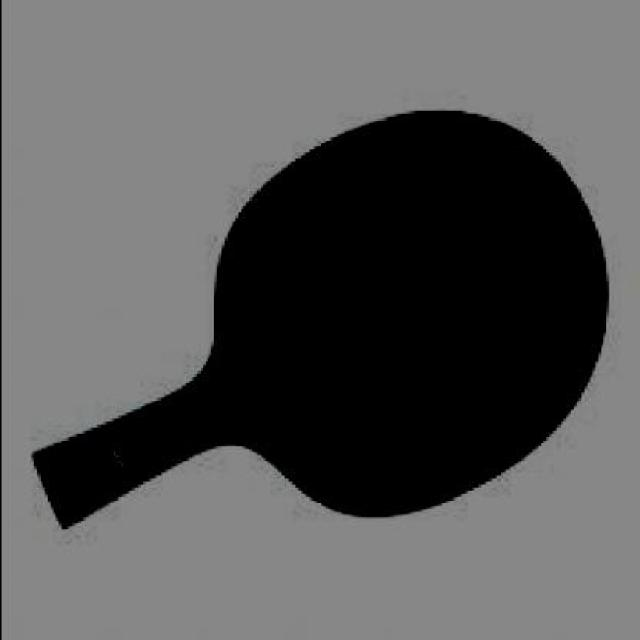table_tennis_racket: (217, 108, 614, 521)
